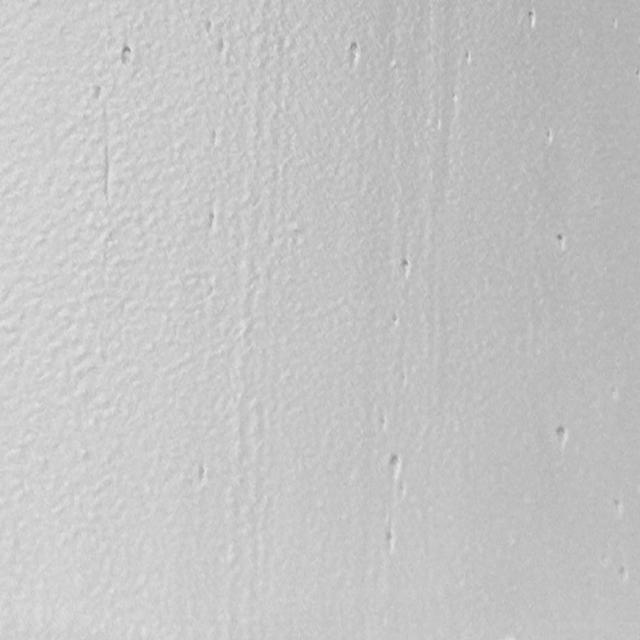pin holes: (386, 453, 406, 480), (345, 39, 364, 67), (117, 42, 135, 68), (382, 529, 400, 555), (524, 7, 541, 32), (552, 425, 570, 448), (399, 258, 415, 282), (206, 208, 222, 232), (553, 230, 570, 252), (463, 49, 476, 68)
